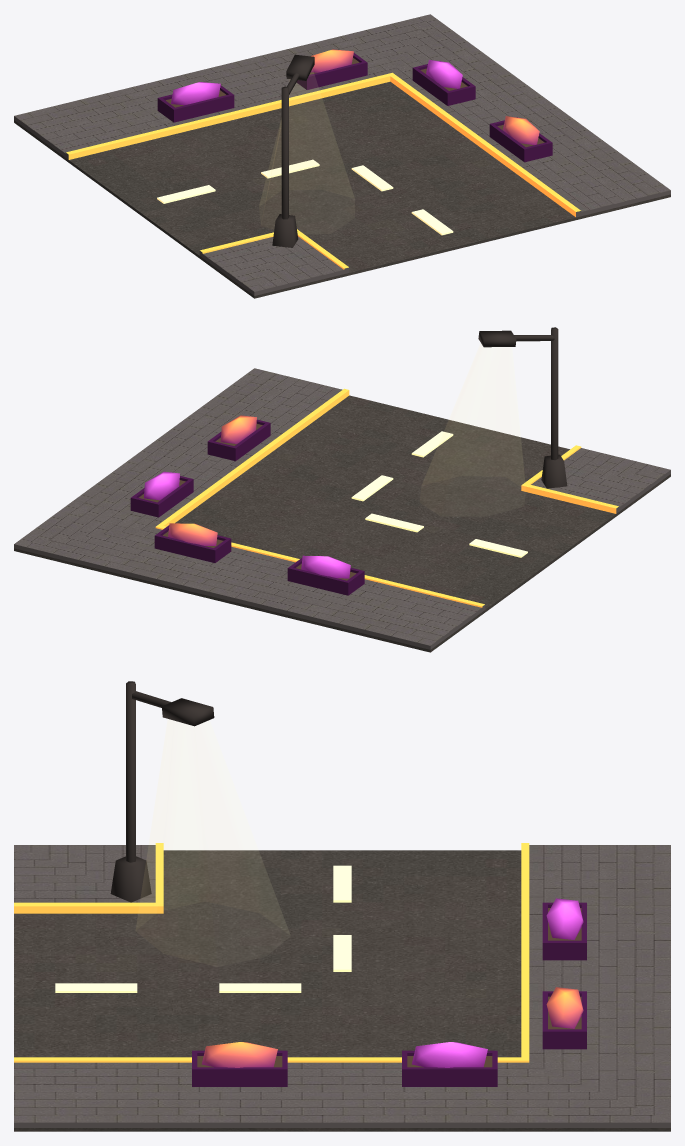
Rendered from turn.glb.
3 views of the same model, one above another, from view 1: azimuth 30°, elevation 25°; view 2: azimuth 150°, elevation 25°; view 3: azimuth 270°, elevation 25° (orthographic). The views are drawn at different scales.
Visible parts, largest first — view 1: Turn; view 2: Turn; view 3: Turn.
Part boxes in pixels (box(x1,y1,x2,y2)): Turn: box(14, 14, 670, 298); Turn: box(14, 327, 670, 652); Turn: box(14, 681, 670, 1131).
Size of what is drawn, in the model's own units: 3.2 by 1.2 by 3.2.
5 materials, 5 textured.
